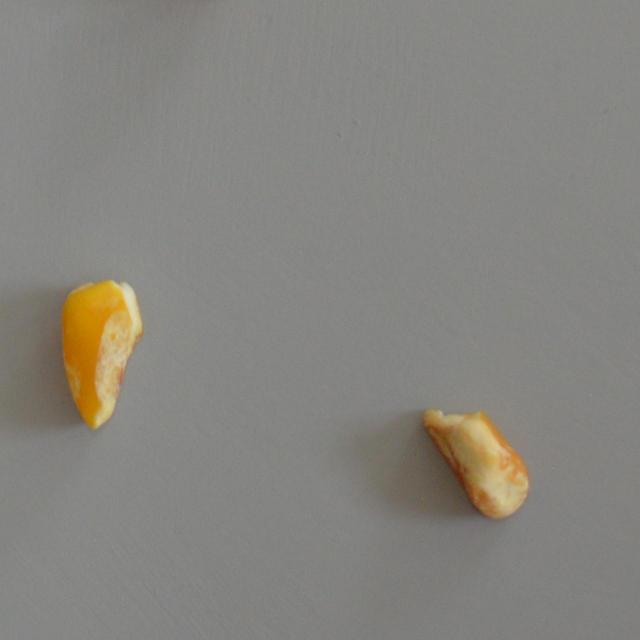dañado: (418, 407, 530, 521)
pelicula: (54, 276, 146, 434)
